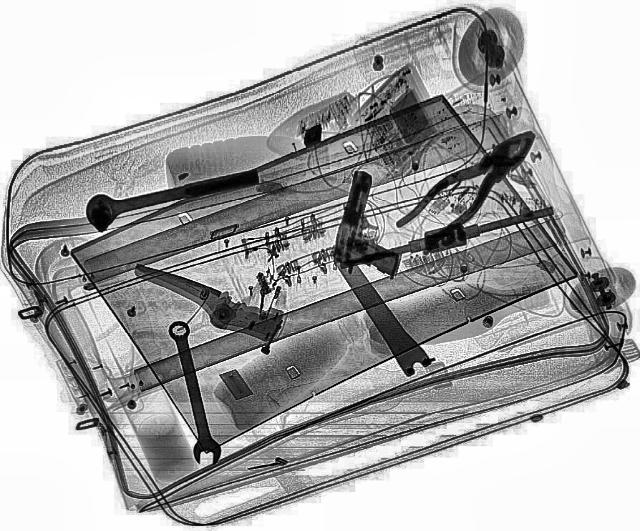Gun: (326, 167, 420, 279)
Pliers: (392, 115, 552, 249)
Wrench: (163, 318, 223, 468)
